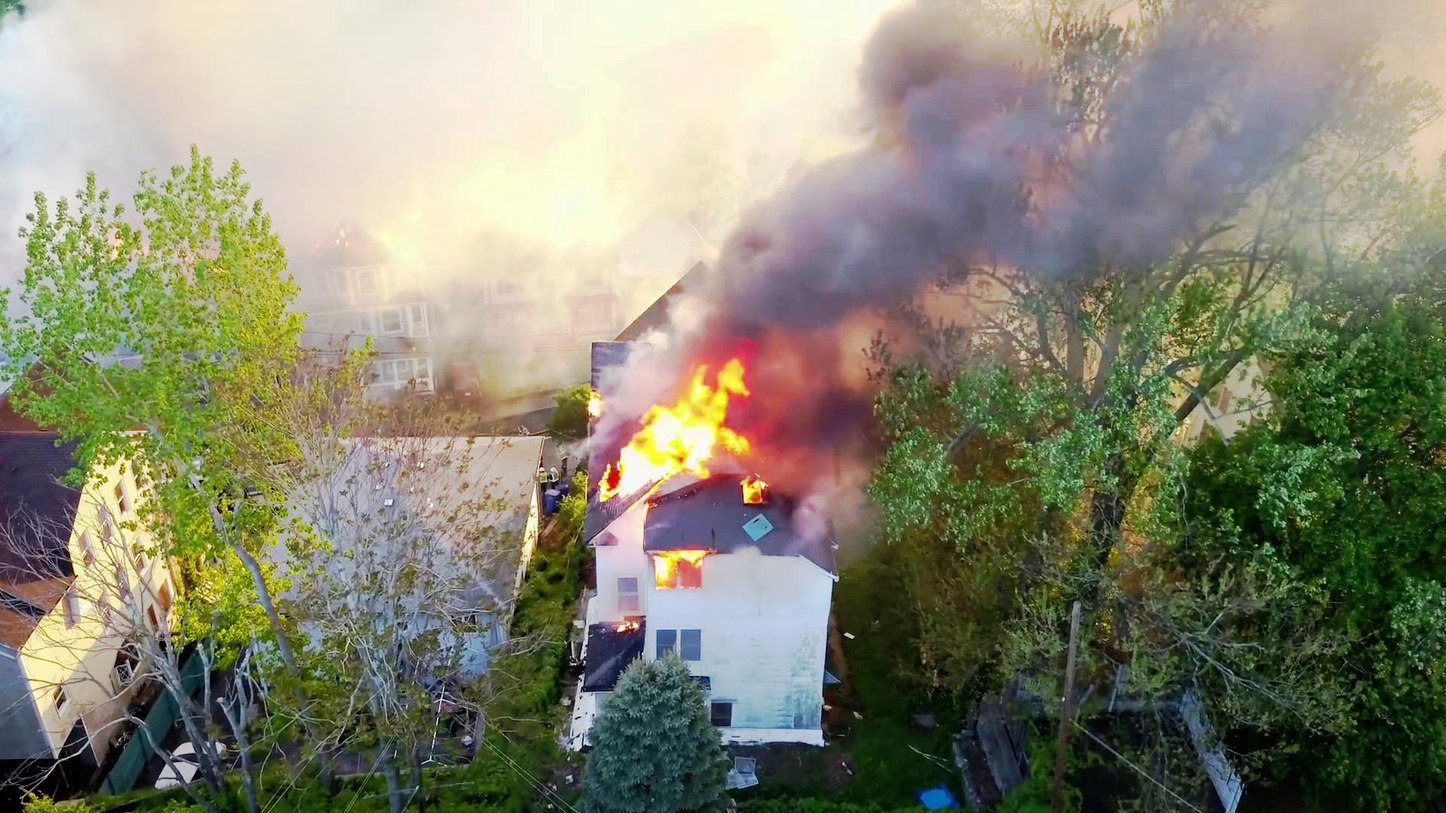fire: (602, 349, 750, 484)
smoke: (721, 12, 1034, 323)
